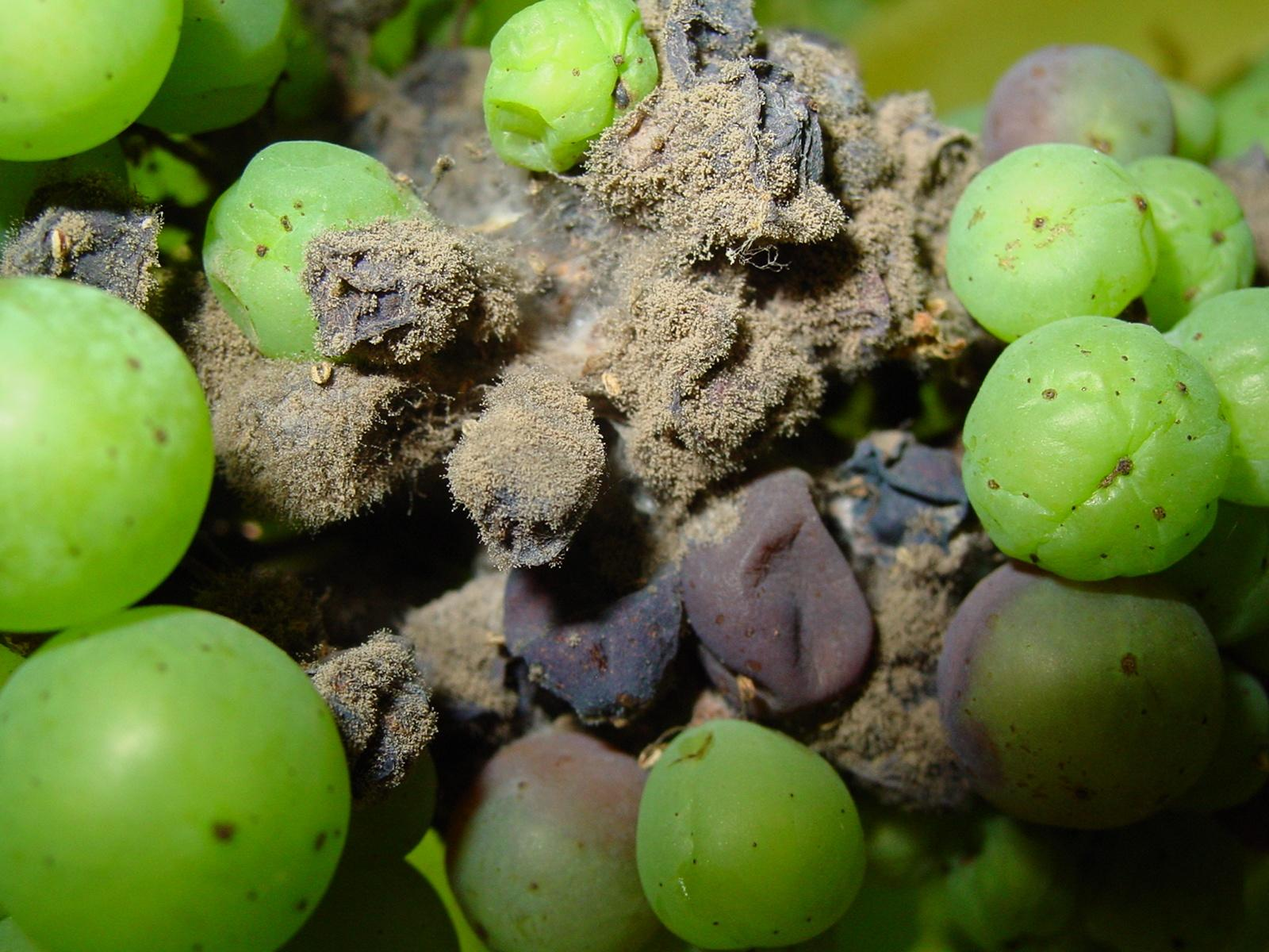Grape Rotten: (362, 19, 984, 716), (959, 313, 1233, 582)
Grape Unripe: (937, 57, 1268, 827), (0, 606, 350, 951), (638, 722, 865, 947)
